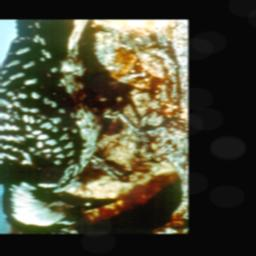Woodpecker: (0, 20, 175, 232)
